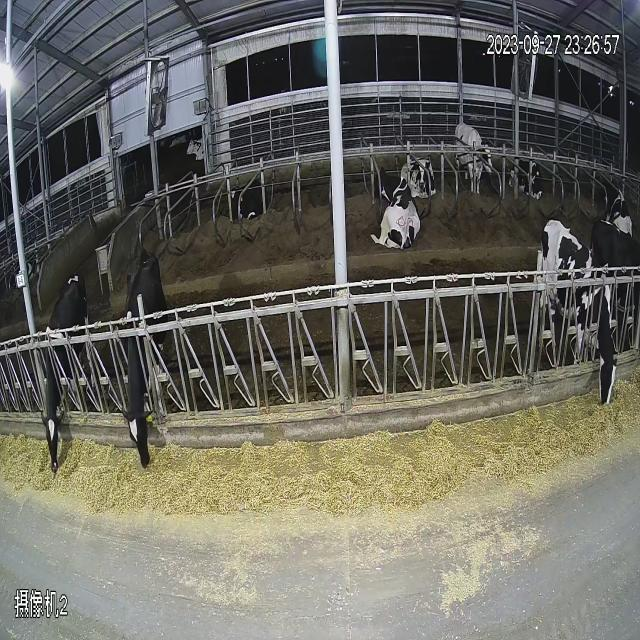feeding: (118, 236, 196, 516), (534, 210, 640, 414), (41, 220, 98, 510)
lying down: (360, 155, 424, 269), (575, 140, 640, 238), (7, 212, 48, 288), (396, 134, 444, 198), (507, 134, 549, 206), (182, 130, 214, 179)
standing: (452, 107, 500, 220)
